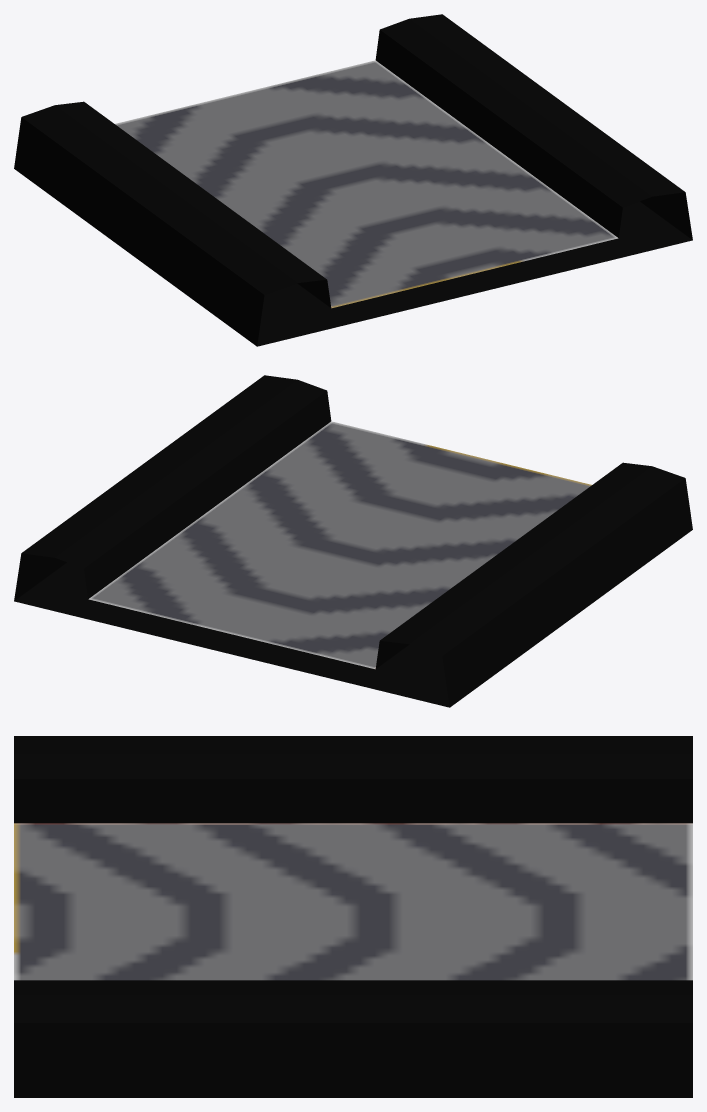
The model's file is ConveyorBelt_straight.obj.
3 renders of one model, top to bottom at view 1: azimuth 30°, elevation 25°; view 2: azimuth 150°, elevation 25°; view 3: azimuth 270°, elevation 25°, orthographic. The views are drawn at different scales.
Visible parts, largest first — view 1: conveyor_straight_Cube.003; view 2: conveyor_straight_Cube.003; view 3: conveyor_straight_Cube.003.
Part boxes in pixels (<box>): conveyor_straight_Cube.003: <box>14,14,692,346</box>; conveyor_straight_Cube.003: <box>14,375,692,707</box>; conveyor_straight_Cube.003: <box>14,736,692,1097</box>.
Size of the model in its own units: 2.07 by 0.2432 by 2.
